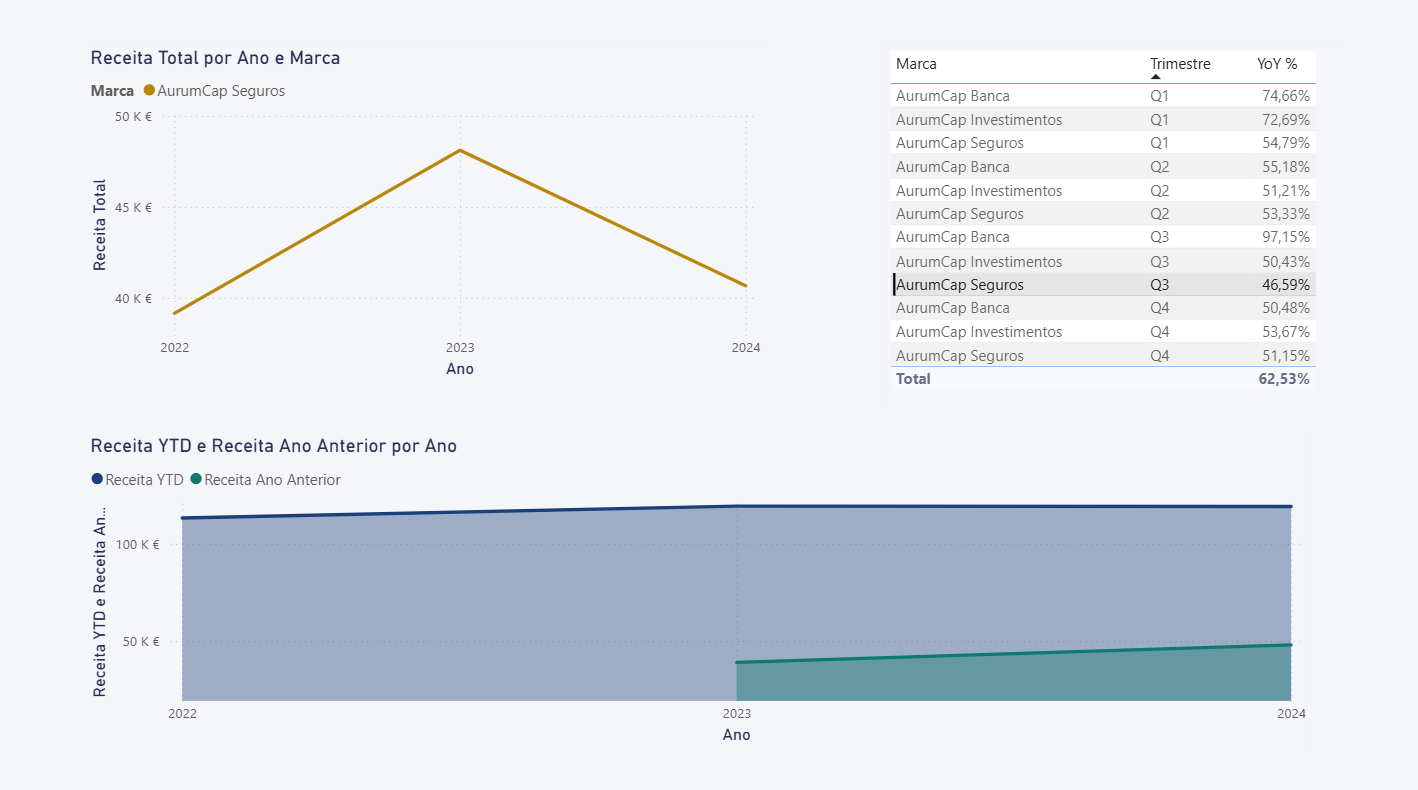

The page's visual inventory and layout, read from the dashboard file:
{"tool":"powerbi","page":{"name":"Tendências & Crescimento","canvas":[1280,720],"ordinal":2},"visuals":[{"type":"areaChart","fields":{"Category":["Calendário.Date.Variação.Hierarquia de Datas.Ano","Calendário.Date.Variação.Hierarquia de Datas.Trimestre","Calendário.Date.Variação.Hierarquia de Datas.Mês","Calendário.Date.Variação.Hierarquia de Datas.Dia"],"Y":["Calendário.Receita YTD","Calendário.Receita Ano Anterior"]},"box":[85.1,393.8,1092.3,279.9],"z":0},{"type":"lineChart","fields":{"Category":["Calendário.Date.Variação.Hierarquia de Datas.Ano","Calendário.Date.Variação.Hierarquia de Datas.Trimestre","Calendário.Date.Variação.Hierarquia de Datas.Mês","Calendário.Date.Variação.Hierarquia de Datas.Dia"],"Y":["Calendário.Receita Total"],"Series":["marcas.nome"]},"box":[85.1,48,606.5,300.5],"z":1000},{"type":"tableEx","fields":{"Values":["marcas.nome","Calendário.Trimestre","Calendário.YoY %"]},"box":[795.9,48,410.3,322.5],"z":2000}]}

Visuals, with their boxes in screenshot pixels (x1, y1, x2, y2), scaled from the page's 1280x720 canvas onto the 1418x790 screenshot:
areaChart - Calendário.Date.Variação.Hierarquia de Datas.Ano x Calendário.Date.Variação.Hierarquia de Datas.Trimestre: pyautogui.locateOnScreen(94, 432, 1304, 739)
lineChart - Calendário.Date.Variação.Hierarquia de Datas.Ano x Calendário.Date.Variação.Hierarquia de Datas.Trimestre: pyautogui.locateOnScreen(94, 53, 766, 382)
tableEx - marcas.nome x Calendário.Trimestre: pyautogui.locateOnScreen(882, 53, 1336, 407)
